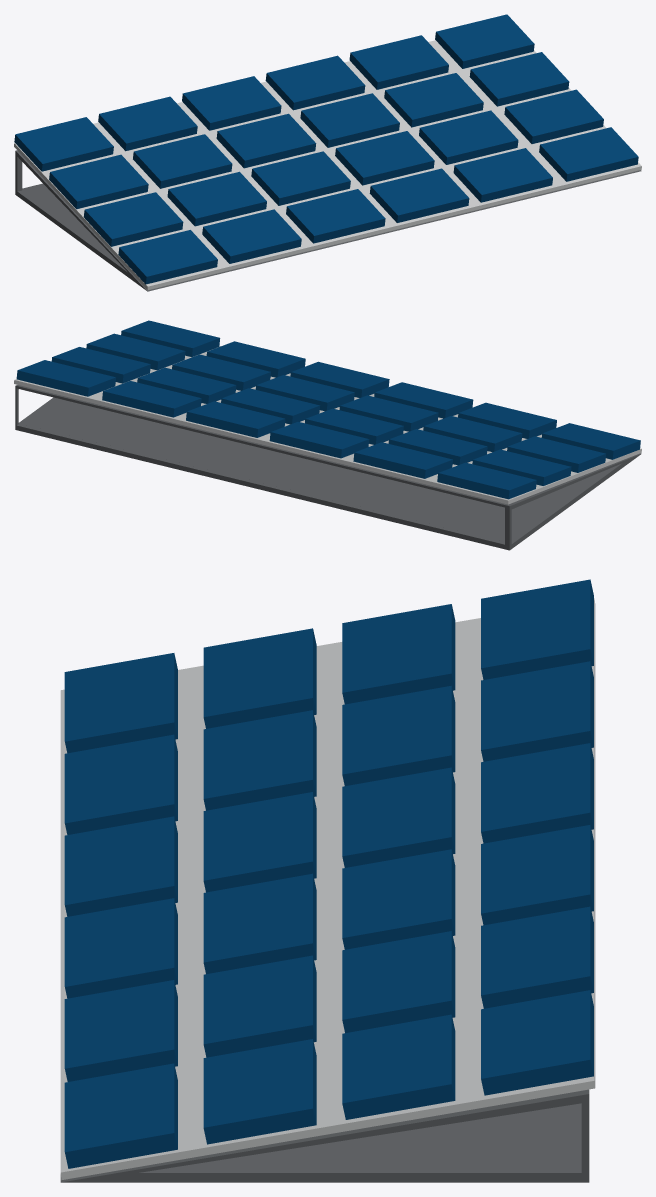
File: solar-panel-4x6-small.glb
The picture shows the model from 3 angles, top to bottom: view 1: azimuth 30°, elevation 25°; view 2: azimuth 150°, elevation 25°; view 3: azimuth 270°, elevation 25°; orthographic projection. The views are drawn at different scales.
Parts seen in each view (by area): view 1: Mesh_Mesh_head_geo.001_lambert2SG.001; view 2: Mesh_Mesh_head_geo.001_lambert2SG.001; view 3: Mesh_Mesh_head_geo.001_lambert2SG.001.
Boxes of the visible parts, left/top/right/bottom form: Mesh_Mesh_head_geo.001_lambert2SG.001: left=14, top=14, right=641, bottom=291; Mesh_Mesh_head_geo.001_lambert2SG.001: left=14, top=320, right=641, bottom=550; Mesh_Mesh_head_geo.001_lambert2SG.001: left=60, top=579, right=595, bottom=1182.
Bounding box in the file's own units: 182 × 21.26 × 85.39.
